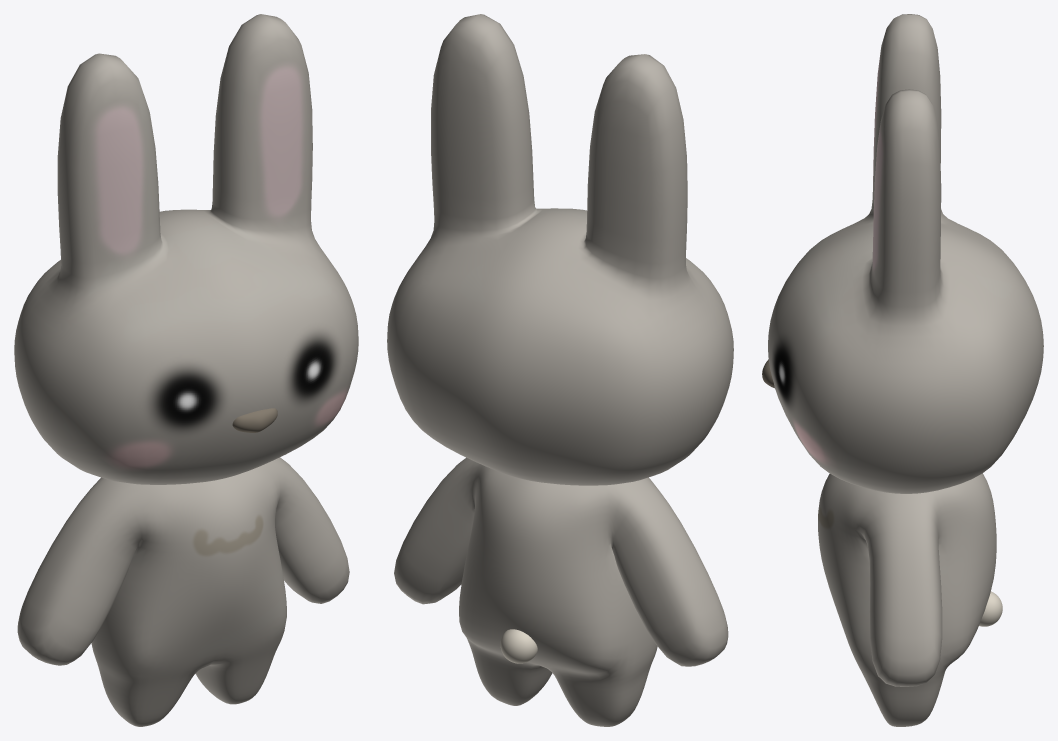
Rendered from rabbit2.fbx.
3 views of the same model, side by side, from view 1: azimuth 30°, elevation 25°; view 2: azimuth 150°, elevation 25°; view 3: azimuth 270°, elevation 25° (orthographic). The views are drawn at different scales.
Parts seen in each view (by area): view 1: head.004, body.004, Roundcube.006; view 2: head.004, body.004, Roundcube.005; view 3: head.004, body.004, Roundcube.005.
Boxes of the visible parts, x1=… form: head.004: x1=14, y1=14, x2=358, y2=484; body.004: x1=17, y1=457, x2=349, y2=726; Roundcube.006: x1=232, y1=408, x2=277, y2=432; head.004: x1=387, y1=14, x2=733, y2=485; body.004: x1=394, y1=457, x2=728, y2=726; Roundcube.005: x1=500, y1=629, x2=537, y2=663; head.004: x1=768, y1=14, x2=1043, y2=493; body.004: x1=818, y1=473, x2=996, y2=726; Roundcube.005: x1=979, y1=591, x2=1002, y2=626.
Bounding box in the file's own units: 69.6 × 141 × 55.33.
Materials: 3 (1 with a texture image).
